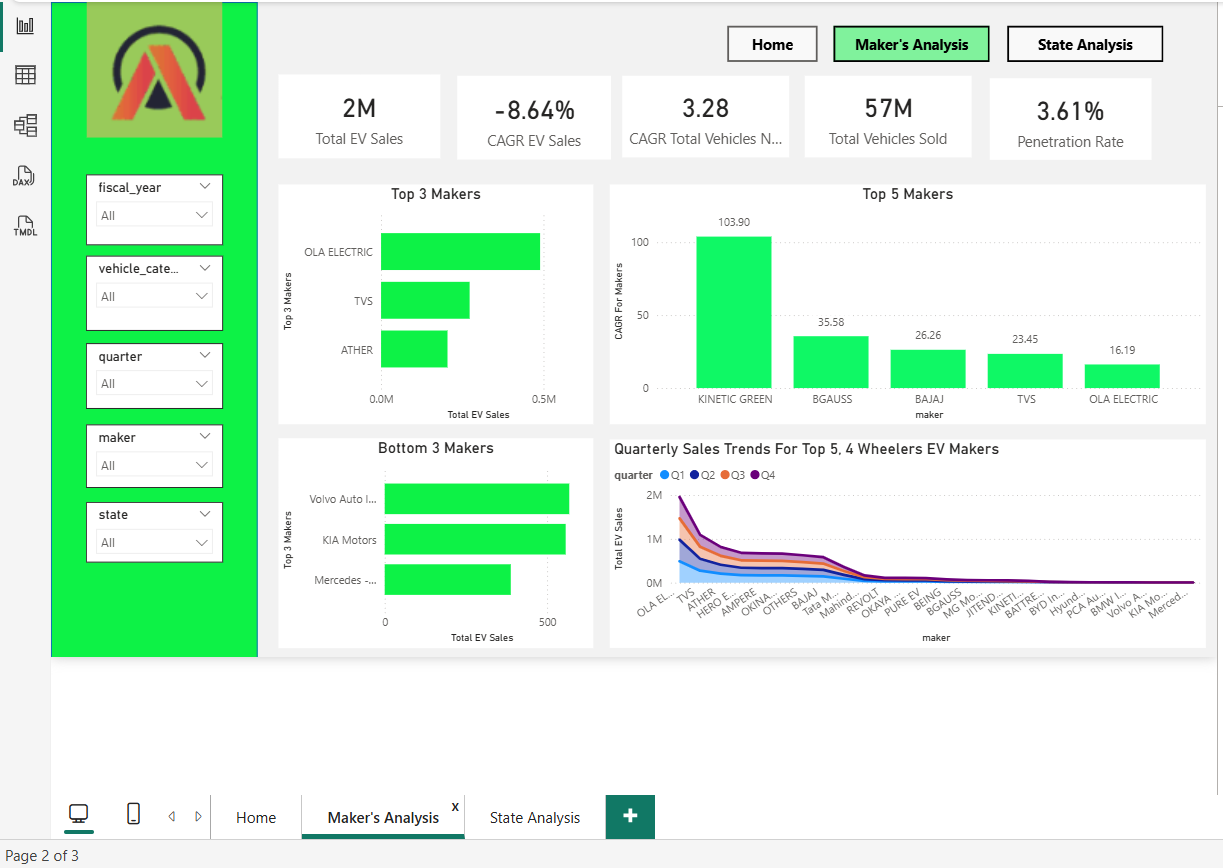

The page's visual inventory and layout, read from the dashboard file:
{"tool":"powerbi","page":{"name":"Maker's Analysis","canvas":[1280,720],"ordinal":1},"visuals":[{"type":"card","fields":{"Values":["public fact_sales_by_maker.Total EV Sales"]},"box":[250.1,79.6,177.6,92.4],"z":0},{"type":"card","fields":{"Values":["public fact_sales_by_state.Total Vehicles Sold"]},"box":[827,81,183.3,89.5],"z":1000},{"type":"card","fields":{"Values":["public fact_sales_by_maker.CAGR EV Sales"]},"box":[446.2,81,169.1,92.4],"z":2000},{"type":"card","fields":{"Values":["public fact_sales_by_state.CAGR Total Vehicles New"]},"box":[626.6,81,183.3,89.5],"z":3000},{"type":"card","fields":{"Values":["public fact_sales_by_state.Penetration Rate"]},"box":[1030.2,83.8,177.6,89.5],"z":4000},{"type":"clusteredBarChart","title":"Top 3 Makers","fields":{"Category":["public fact_sales_by_maker.maker"],"Y":["public fact_sales_by_maker.Total EV Sales"]},"box":[249.7,200.3,345.8,263.5],"z":5000},{"type":"clusteredBarChart","title":"Bottom 3 Makers","fields":{"Category":["public fact_sales_by_maker.maker"],"Y":["public fact_sales_by_maker.Total EV Sales"]},"box":[249.7,478.9,345.8,230.5],"z":6000},{"type":"stackedAreaChart","title":"Quarterly Sales Trends For Top 5, 4 Wheelers EV Makers","fields":{"Category":["public fact_sales_by_maker.maker"],"Series":["public dim_date.quarter"],"Y":["public fact_sales_by_maker.Total EV Sales"]},"box":[613.4,480.3,654.5,229.2],"z":7000},{"type":"shape","box":[0,0,226.9,720.3],"z":8000},{"type":"actionButton","box":[742.9,25.5,99.2,39.7],"z":9000},{"type":"actionButton","box":[859,26.1,171.5,39.8],"z":10000},{"type":"actionButton","box":[1049.7,26.1,171.5,39.8],"z":11000},{"type":"image","box":[38.3,0,150.3,148.9],"z":12000},{"type":"slicer","fields":{"Values":["public dim_date.fiscal_year"]},"box":[38.3,190,150.3,78],"z":13000},{"type":"slicer","fields":{"Values":["public fact_sales_by_maker.vehicle_category"]},"box":[38.3,277.9,150.3,82.2],"z":14000},{"type":"slicer","fields":{"Values":["public dim_date.quarter"]},"box":[38.3,374.3,150.3,72.3],"z":15000},{"type":"slicer","fields":{"Values":["public fact_sales_by_maker.maker"]},"box":[38.3,463.6,150.3,69.5],"z":16000},{"type":"slicer","fields":{"Values":["public fact_sales_by_state.state"]},"box":[38.3,548.7,150.3,66.6],"z":17000},{"type":"lineClusteredColumnComboChart","title":"Top 5 Makers","fields":{"Category":["Dim_Maker.maker"],"Y":["public fact_sales_by_maker.CAGR Makers Final"]},"box":[613.4,200.3,654.5,263.5],"z":18000}]}

Visuals, with their boxes on the page's 1280x720 design canvas (x1, y1, x2, y2). These are canvas units, not pixel positions in the 1223x868 screenshot, which may show the page scaled, cropped or inside an application window:
card - public fact_sales_by_maker.Total EV Sales: x1=250 y1=80 x2=428 y2=172
card - public fact_sales_by_state.Total Vehicles Sold: x1=827 y1=81 x2=1010 y2=170
card - public fact_sales_by_maker.CAGR EV Sales: x1=446 y1=81 x2=615 y2=173
card - public fact_sales_by_state.CAGR Total Vehicles New: x1=627 y1=81 x2=810 y2=170
card - public fact_sales_by_state.Penetration Rate: x1=1030 y1=84 x2=1208 y2=173
"Top 3 Makers" clusteredBarChart: x1=250 y1=200 x2=596 y2=464
"Bottom 3 Makers" clusteredBarChart: x1=250 y1=479 x2=596 y2=709
"Quarterly Sales Trends For Top 5, 4 Wheelers EV Makers" stackedAreaChart: x1=613 y1=480 x2=1268 y2=710
shape: x1=0 y1=0 x2=227 y2=720
actionButton: x1=743 y1=26 x2=842 y2=65
actionButton: x1=859 y1=26 x2=1030 y2=66
actionButton: x1=1050 y1=26 x2=1221 y2=66
image: x1=38 y1=0 x2=189 y2=149
slicer - public dim_date.fiscal_year: x1=38 y1=190 x2=189 y2=268
slicer - public fact_sales_by_maker.vehicle_category: x1=38 y1=278 x2=189 y2=360
slicer - public dim_date.quarter: x1=38 y1=374 x2=189 y2=447
slicer - public fact_sales_by_maker.maker: x1=38 y1=464 x2=189 y2=533
slicer - public fact_sales_by_state.state: x1=38 y1=549 x2=189 y2=615
"Top 5 Makers" lineClusteredColumnComboChart: x1=613 y1=200 x2=1268 y2=464
